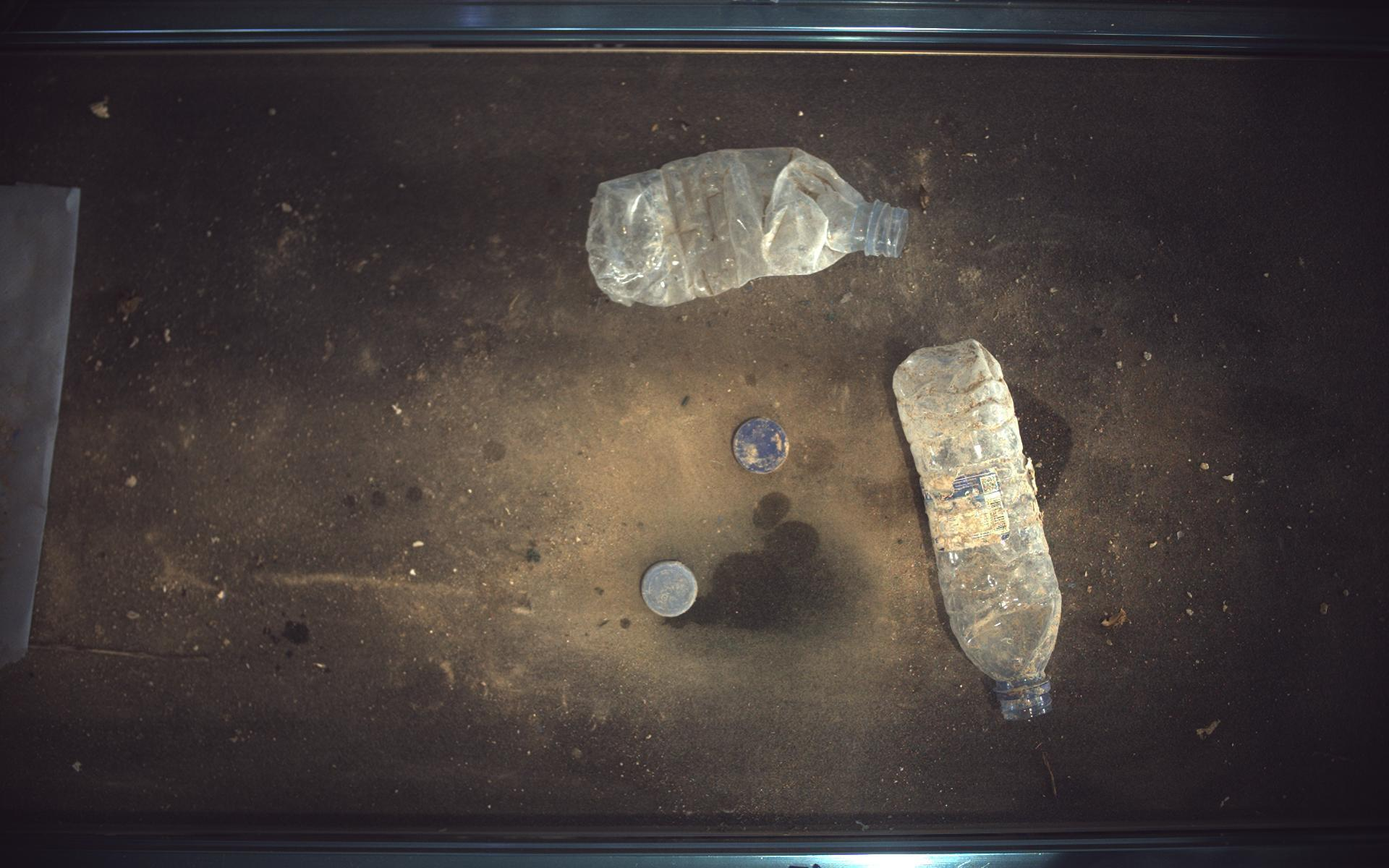general_w: (895, 340, 1064, 721), (587, 147, 910, 306), (642, 562, 699, 618), (734, 420, 790, 474)
